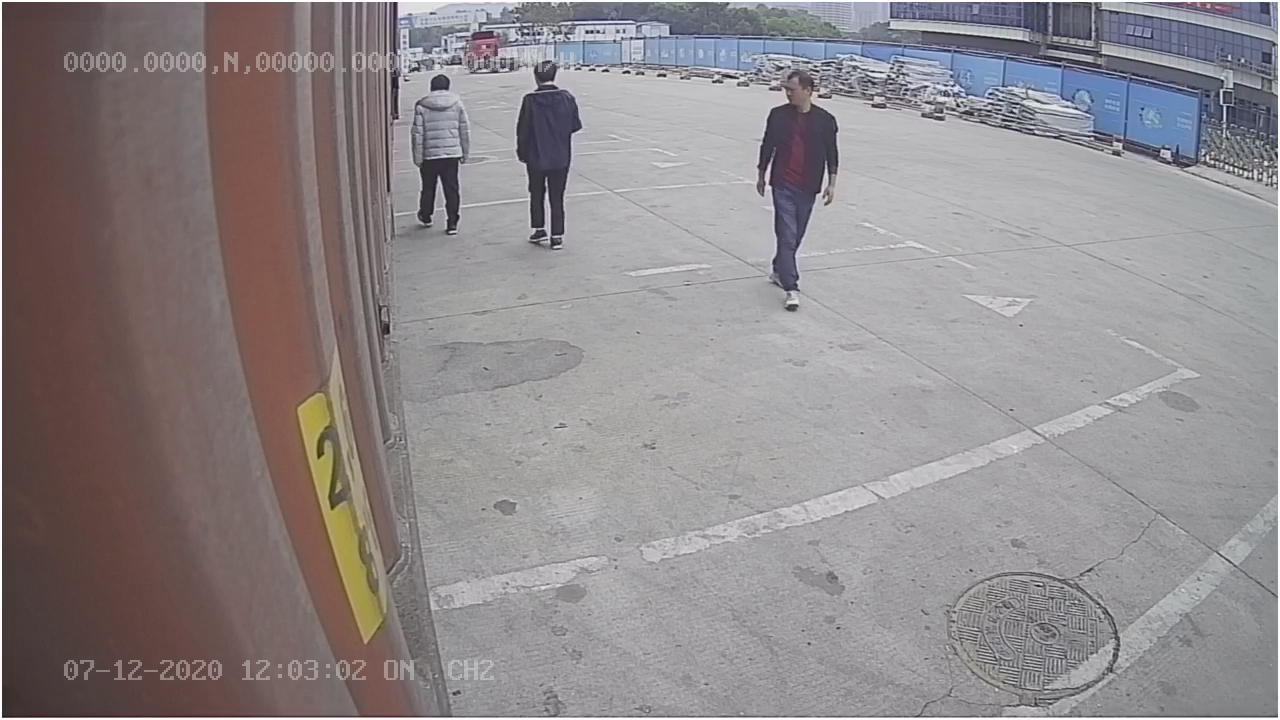person: (751, 67, 841, 310)
